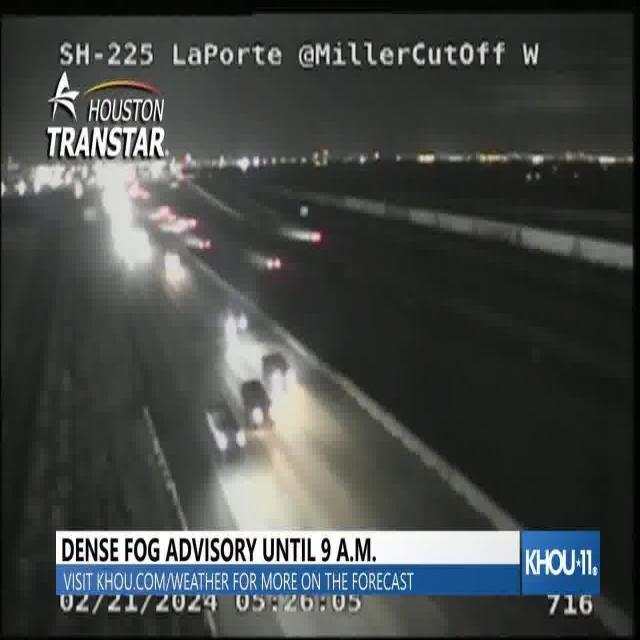Car: (201, 395, 246, 466), (236, 376, 269, 442), (262, 336, 297, 397), (248, 242, 293, 283), (217, 299, 250, 342), (159, 249, 189, 285)
